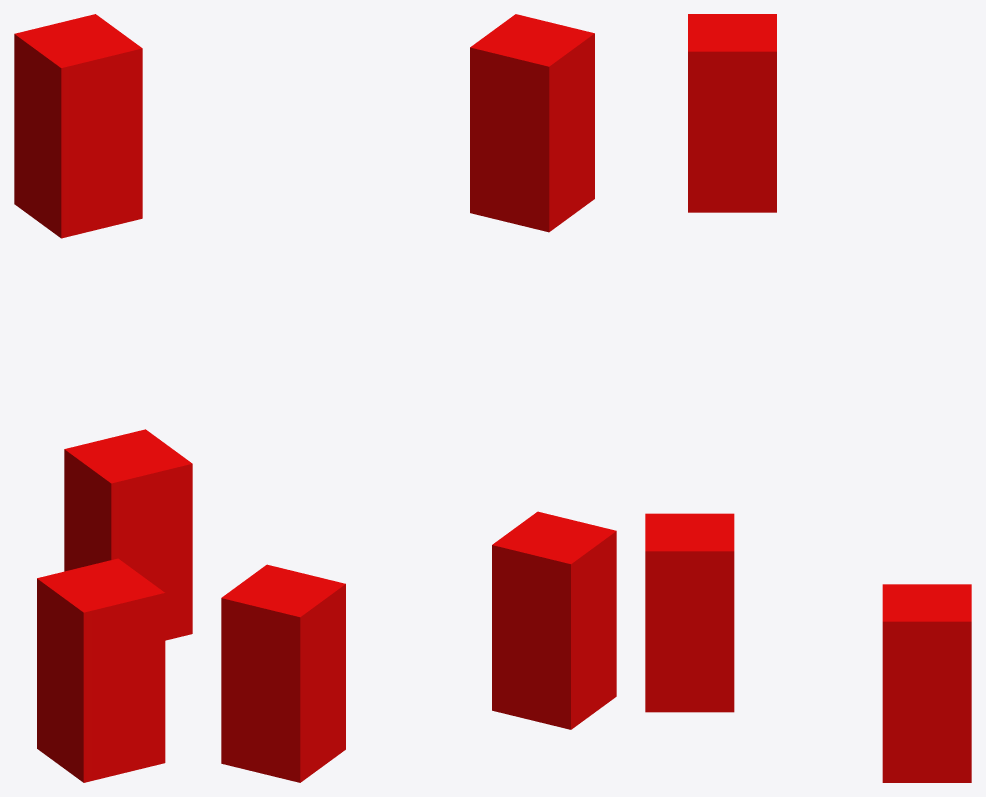
The model's file is M12_Enemies.fbx.
3 views of the same model, side by side, from view 1: azimuth 30°, elevation 25°; view 2: azimuth 150°, elevation 25°; view 3: azimuth 270°, elevation 25° (orthographic). The views are drawn at different scales.
Parts seen in each view (by area): view 1: Enemy3, Enemy2, Enemy1; view 2: Enemy3, Enemy2, Enemy1; view 3: Enemy2, Enemy1, Enemy3.
Part boxes in pixels (<box>): Enemy3: <box>14,14,142,238</box>; Enemy2: <box>37,558,165,782</box>; Enemy1: <box>64,429,192,640</box>; Enemy3: <box>470,14,594,232</box>; Enemy2: <box>492,511,616,729</box>; Enemy1: <box>221,564,345,782</box>; Enemy2: <box>645,513,734,712</box>; Enemy1: <box>882,584,971,782</box>; Enemy3: <box>688,14,776,212</box>.
Size of what is drawn, in the model's own units: 5.76 by 16.4 by 7.34.
